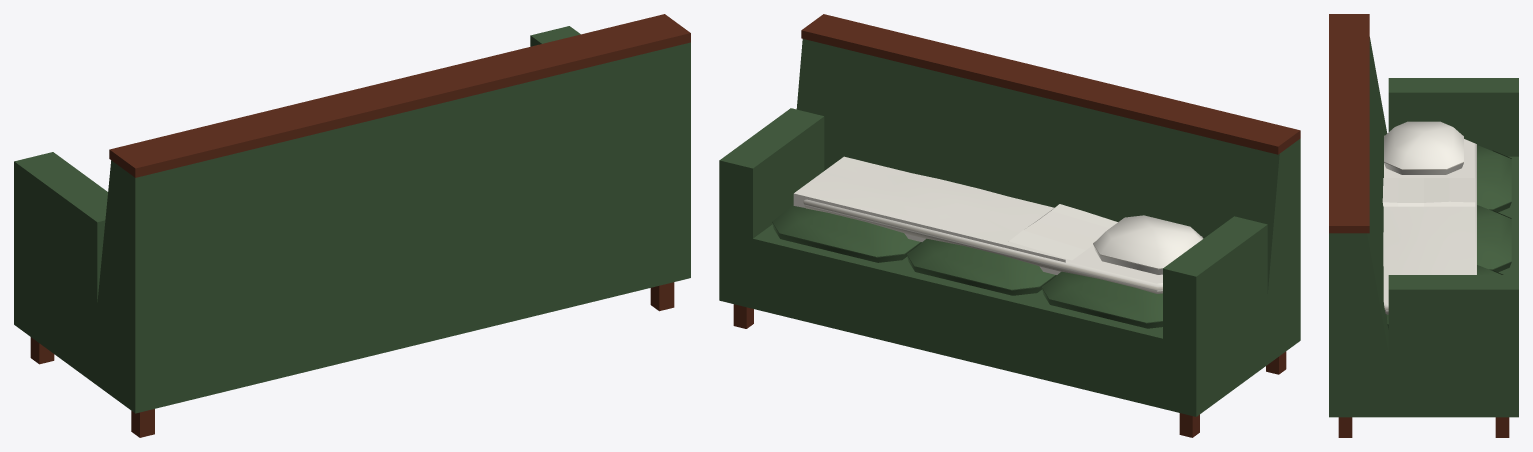
The picture shows the model from 3 angles, left to right: view 1: azimuth 30°, elevation 25°; view 2: azimuth 150°, elevation 25°; view 3: azimuth 270°, elevation 25°; orthographic projection. The views are drawn at different scales.
Parts seen in each view (by area): view 1: parametric-variant-sofa-1st-f1a591c47e027a06ac0e; view 2: parametric-variant-sofa-1st-f1a591c47e027a06ac0e; view 3: parametric-variant-sofa-1st-f1a591c47e027a06ac0e.
Boxes of the visible parts, x1=… form: parametric-variant-sofa-1st-f1a591c47e027a06ac0e: x1=14, y1=14, x2=690, y2=437; parametric-variant-sofa-1st-f1a591c47e027a06ac0e: x1=719, y1=14, x2=1300, y2=437; parametric-variant-sofa-1st-f1a591c47e027a06ac0e: x1=1329, y1=14, x2=1518, y2=437.
Size of the model in its own units: 1.85 by 0.88 by 0.7.
